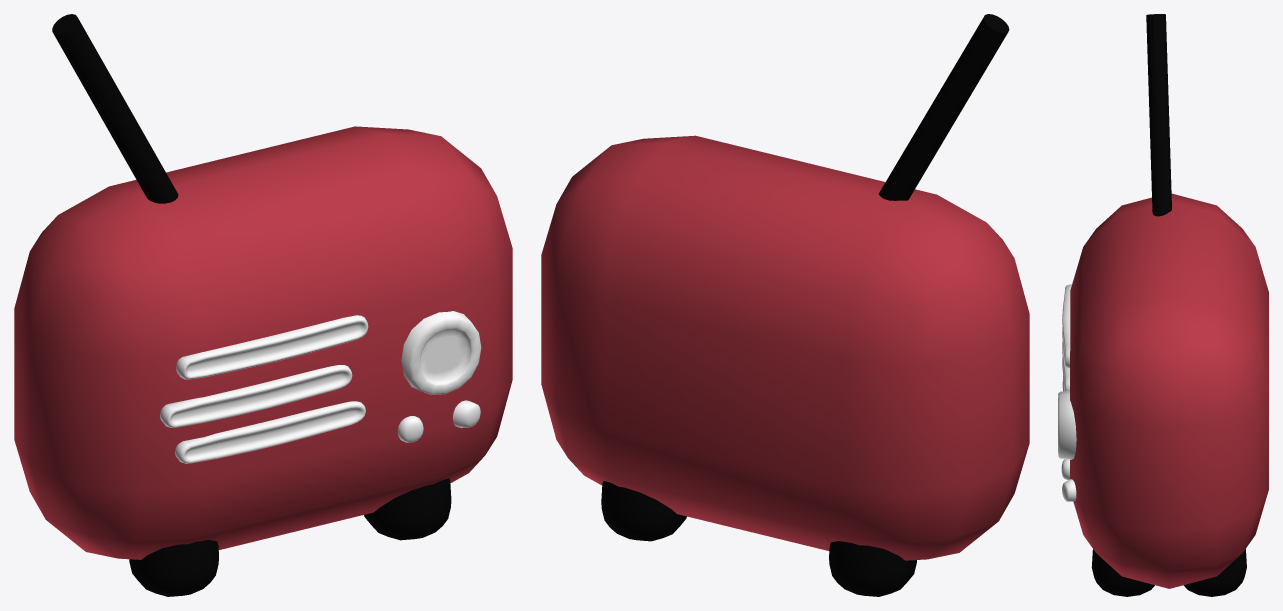
Rendered from radioD.glb.
3 renders of one model, left to right at view 1: azimuth 30°, elevation 25°; view 2: azimuth 150°, elevation 25°; view 3: azimuth 270°, elevation 25°, orthographic. The views are drawn at different scales.
Parts seen in each view (by area): view 1: radioD; view 2: radioD; view 3: radioD.
Boxes of the visible parts, bbox=[...] form: radioD: bbox=[14, 14, 512, 596]; radioD: bbox=[541, 14, 1029, 596]; radioD: bbox=[1058, 14, 1268, 596].
Bounding box in the file's own units: 0.8608 × 1.03 × 0.429.
1 material, 1 textured.
